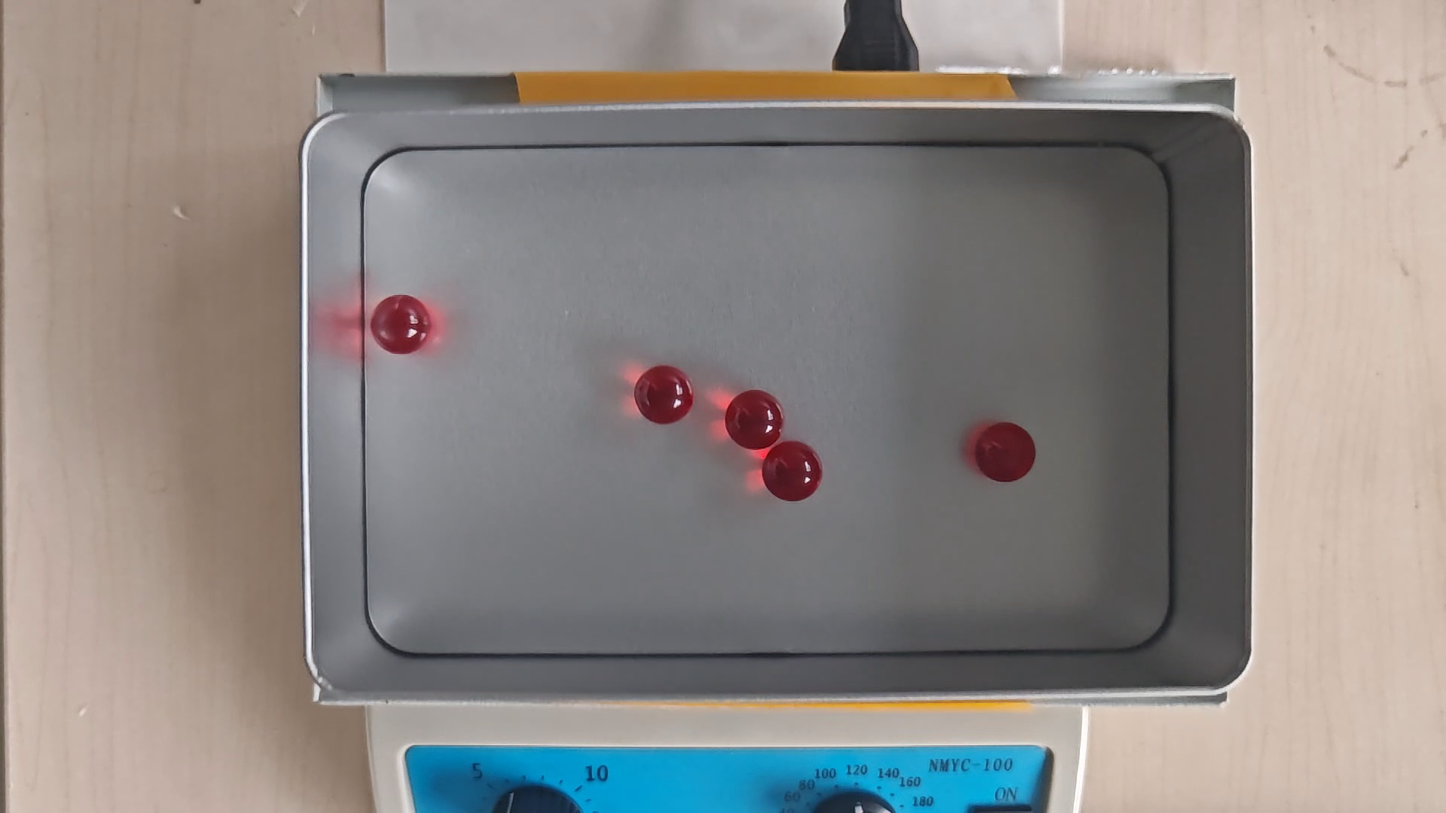ball: (977, 421, 1036, 482), (373, 294, 432, 354), (726, 390, 783, 449), (766, 442, 822, 501), (637, 365, 691, 425)
container: (357, 142, 1173, 653)
